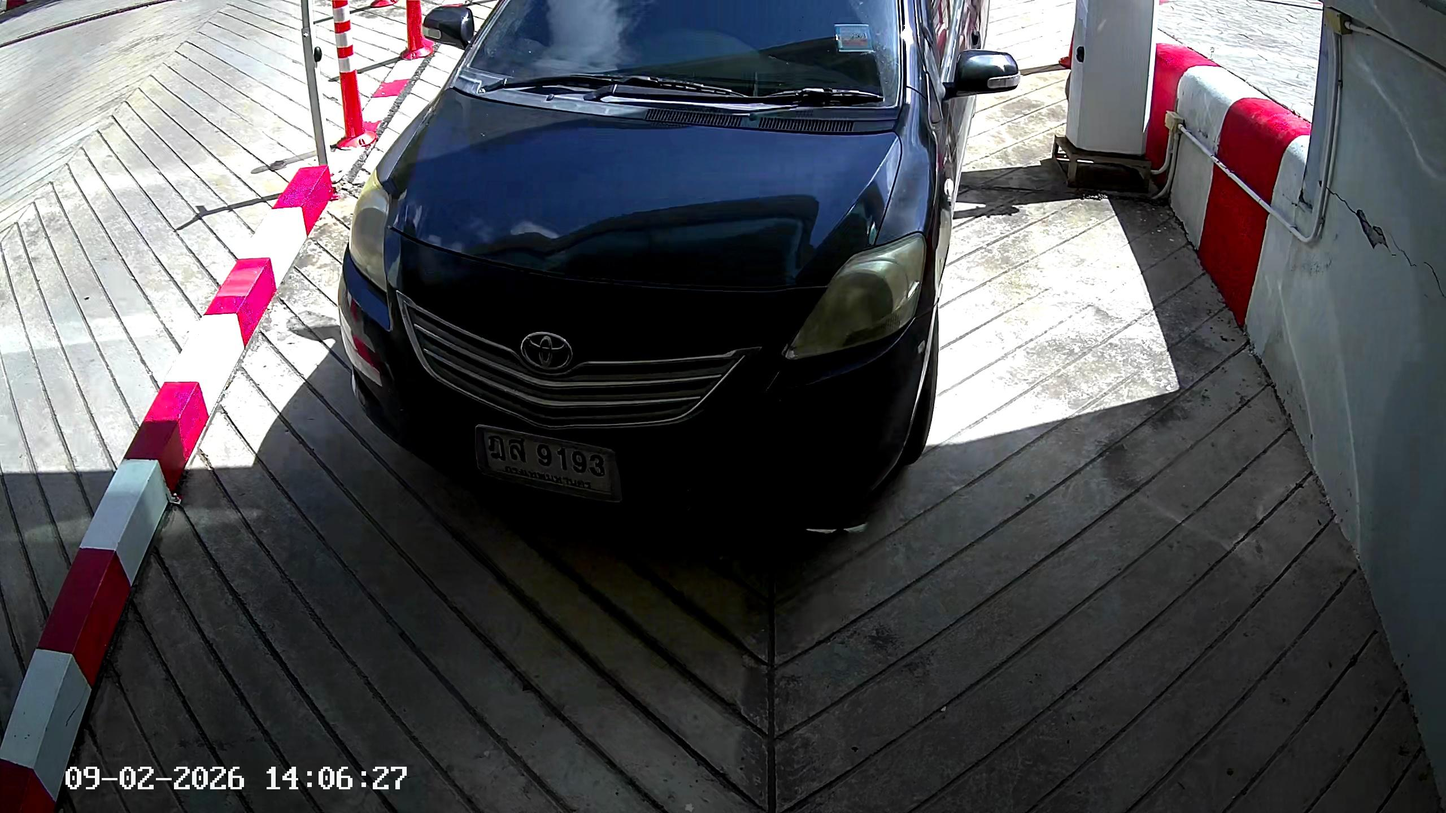car: (337, 3, 1019, 530)
license-plate: (474, 419, 624, 507)
